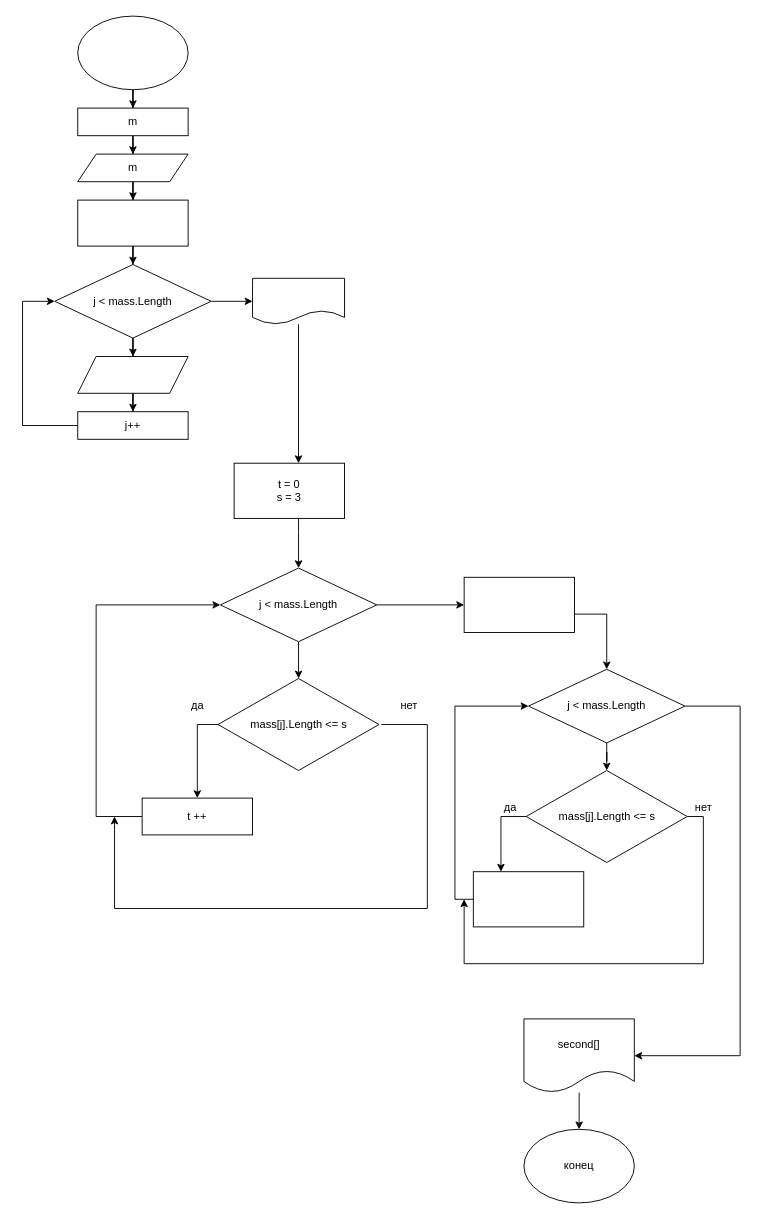
Some shapes in this 764 by 1219 pixel diagram are drawn without their labels. Here are the shapes that lost their labels. From the top down, the centre of each, then its label:
At [132,52]: "начало".
At [132,222]: "mass[m] j = 0".
At [298,300]: "mass[]".
At [132,374]: "mass[j]".
At [519,604]: "second[t] r = 0".
At [528,899]: "second[r] = mass[j] r ++".
